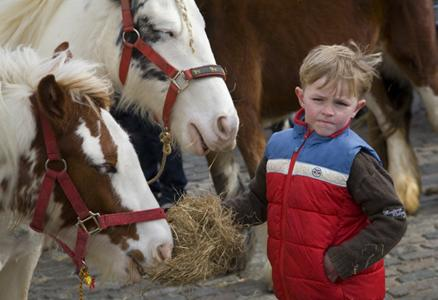person: (194, 44, 410, 300)
